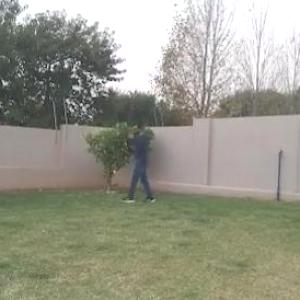follow: (130, 121, 152, 209)
